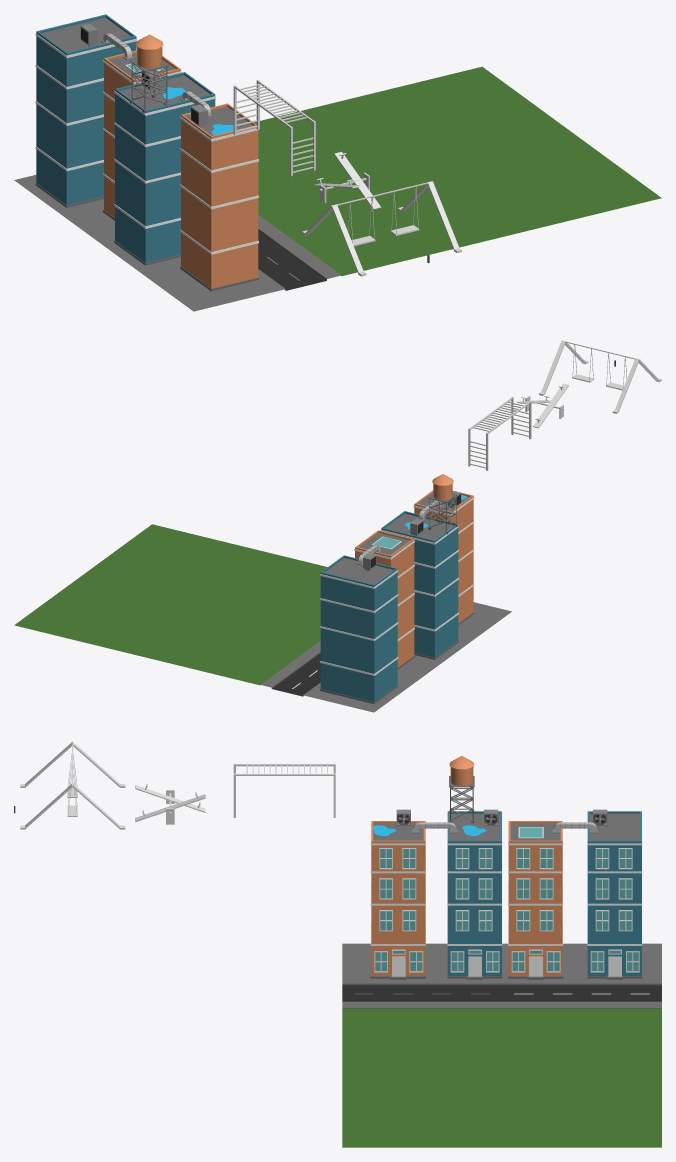
File: assets.fbx
3 renders of one model, top to bottom at view 1: azimuth 30°, elevation 25°; view 2: azimuth 150°, elevation 25°; view 3: azimuth 270°, elevation 25°, orthographic. The views are drawn at different scales.
Visible parts, largest first — view 1: calles02, calles01, Box002, Box012, Box003, Box004, Box009, Cube.047, Cube.030, Cube.001, Cube.009; view 2: calles01, calles02, Box012, Box003, Box004, Box002, Box009; view 3: calles02, calles01, Box012, Box003, Box002, Box004, Box009.
Boxes of the visible parts, x1,y1,x2,y2 form: calles02: [104, 132, 661, 311]; calles01: [14, 66, 571, 245]; Box002: [180, 103, 258, 291]; Box012: [35, 14, 137, 207]; Box003: [114, 72, 215, 265]; Box004: [103, 50, 181, 220]; Box009: [130, 34, 169, 112]; Cube.047: [240, 84, 306, 122]; Cube.030: [334, 151, 381, 209]; Cube.001: [427, 181, 459, 249]; Cube.009: [332, 206, 363, 273]; calles01: [14, 575, 442, 712]; calles02: [83, 524, 511, 661]; Box012: [320, 555, 398, 704]; Box003: [380, 511, 458, 659]; Box004: [354, 530, 414, 669]; Box002: [413, 490, 474, 625]; Box009: [428, 474, 458, 534]; calles02: [342, 943, 502, 1147]; calles01: [502, 943, 661, 1147]; Box012: [587, 811, 642, 979]; Box003: [447, 811, 502, 979]; Box002: [370, 821, 425, 979]; Box004: [508, 821, 563, 979]; Box009: [449, 756, 474, 823].
Size of the model in its own units: 33249 by 14773 by 43499.
